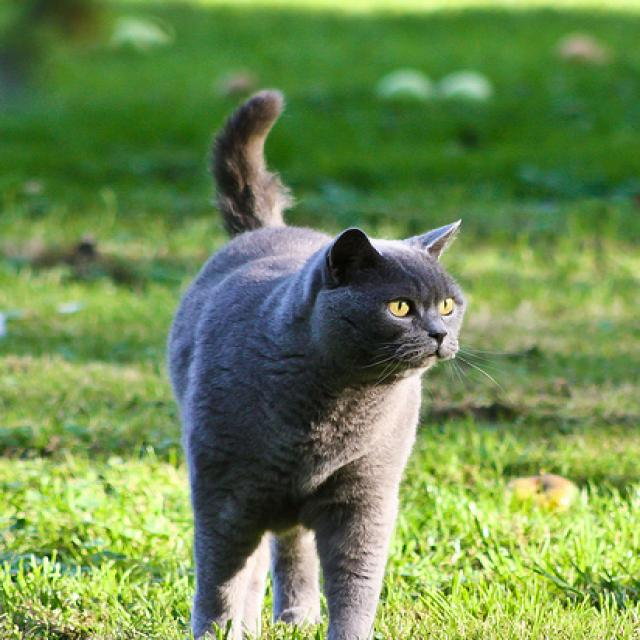British Shorthair: (165, 87, 466, 640)
